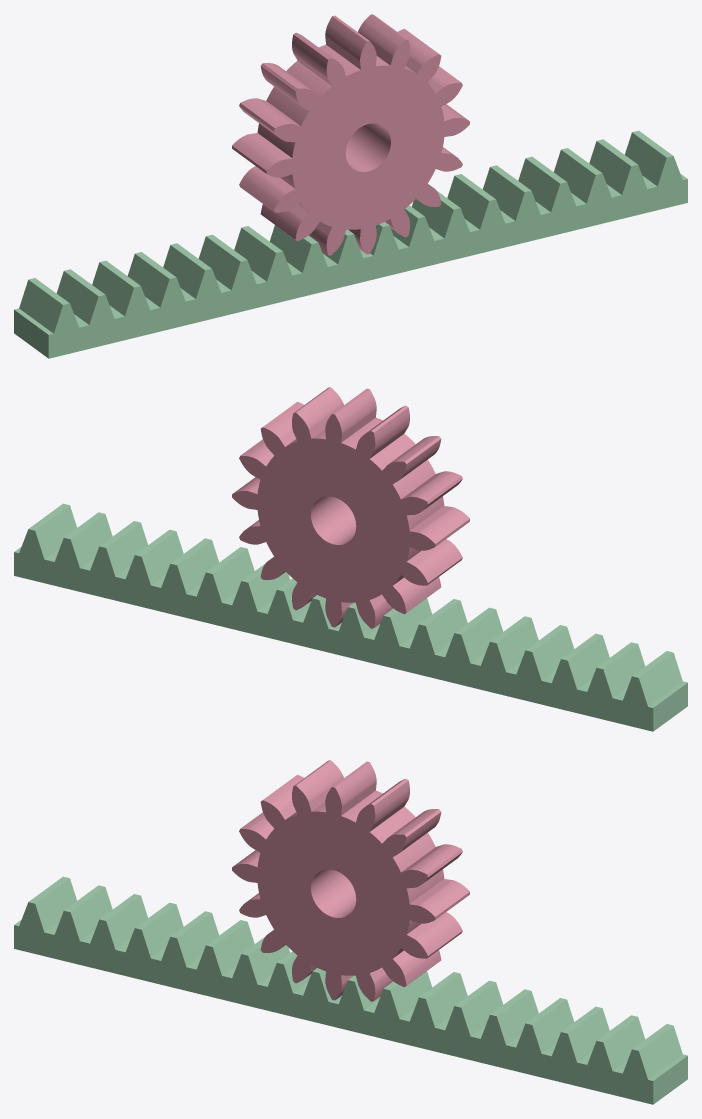
The model's file is rack_pinion_demo.glb.
3 renders of one model, top to bottom at view 1: azimuth 30°, elevation 25°; view 2: azimuth 150°, elevation 25°; view 3: azimuth 330°, elevation 25°, orthographic.
Parts seen in each view (by area): view 1: rack, pinion; view 2: rack, pinion; view 3: rack, pinion.
Boxes of the visible parts, bbox=[...] form: rack: bbox=[14, 130, 687, 358]; pinion: bbox=[232, 14, 469, 255]; rack: bbox=[14, 503, 687, 731]; pinion: bbox=[232, 387, 469, 628]; rack: bbox=[14, 876, 687, 1104]; pinion: bbox=[232, 760, 469, 1001].
Size of the model in its own units: 84.82 by 30.37 by 8.
